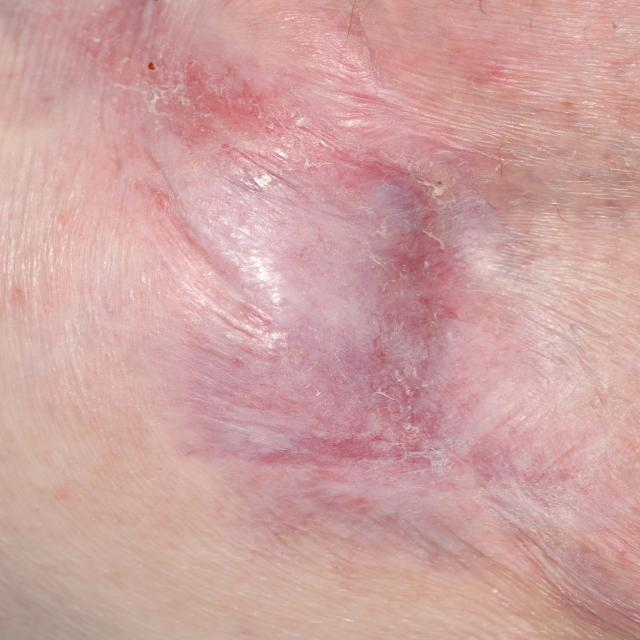wound: (118, 88, 527, 521)
